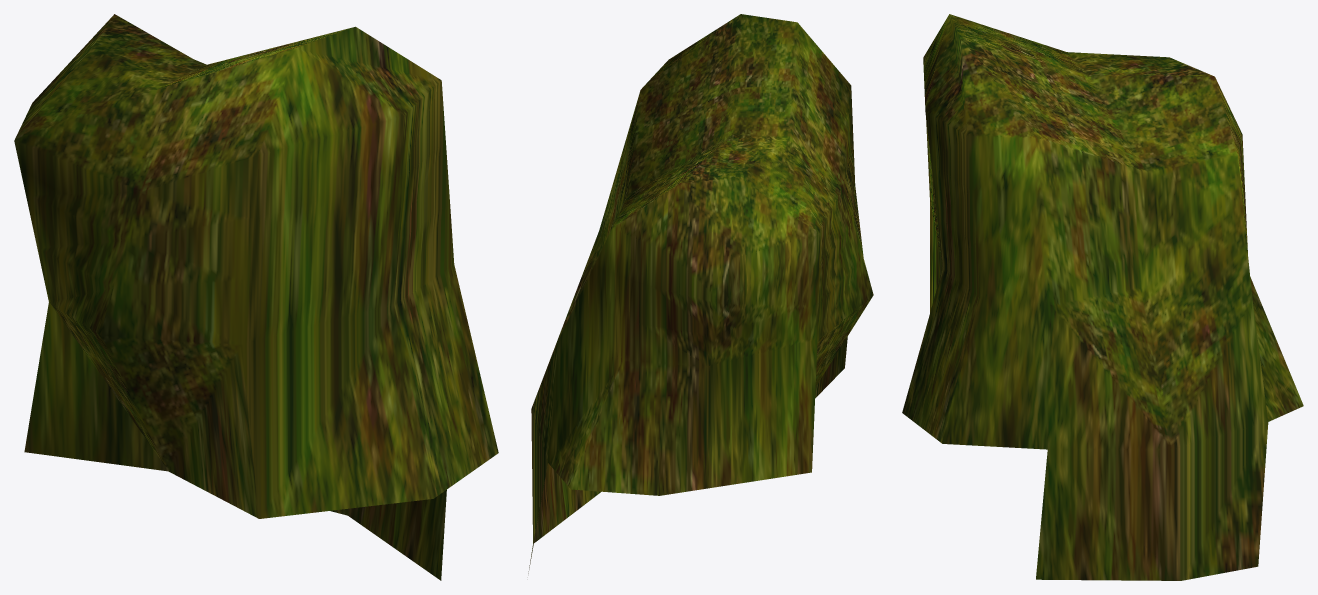
The model's file is TROLLHOLE02_BOX330.fbx.
3 views of the same model, side by side, from view 1: azimuth 30°, elevation 25°; view 2: azimuth 150°, elevation 25°; view 3: azimuth 270°, elevation 25° (orthographic). The views are drawn at different scales.
Visible parts, largest first — view 1: TROLLHOLE02_BOX330; view 2: TROLLHOLE02_BOX330; view 3: TROLLHOLE02_BOX330.
Boxes of the visible parts, x1,y1,x2,y2 form: TROLLHOLE02_BOX330: (14,14,498,580); TROLLHOLE02_BOX330: (528,14,873,573); TROLLHOLE02_BOX330: (902,14,1303,580).
Size of the model in its own units: 42672 by 68234 by 50473.
1 material, 1 textured.
